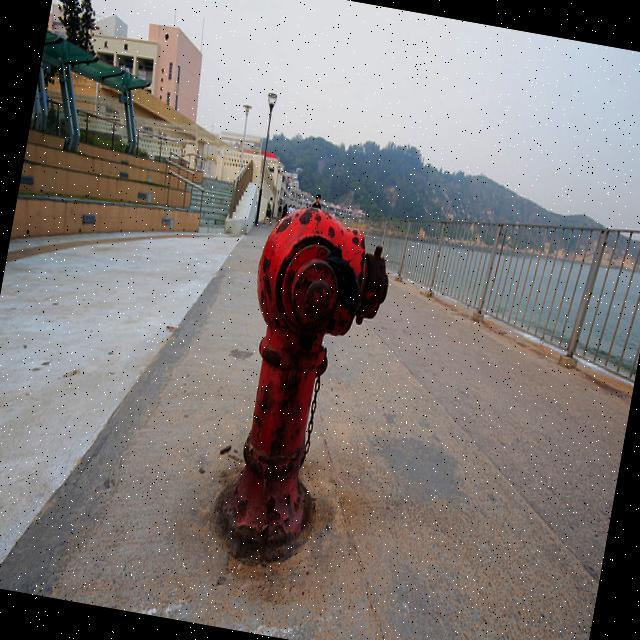fire_hydrant: (205, 198, 398, 580)
